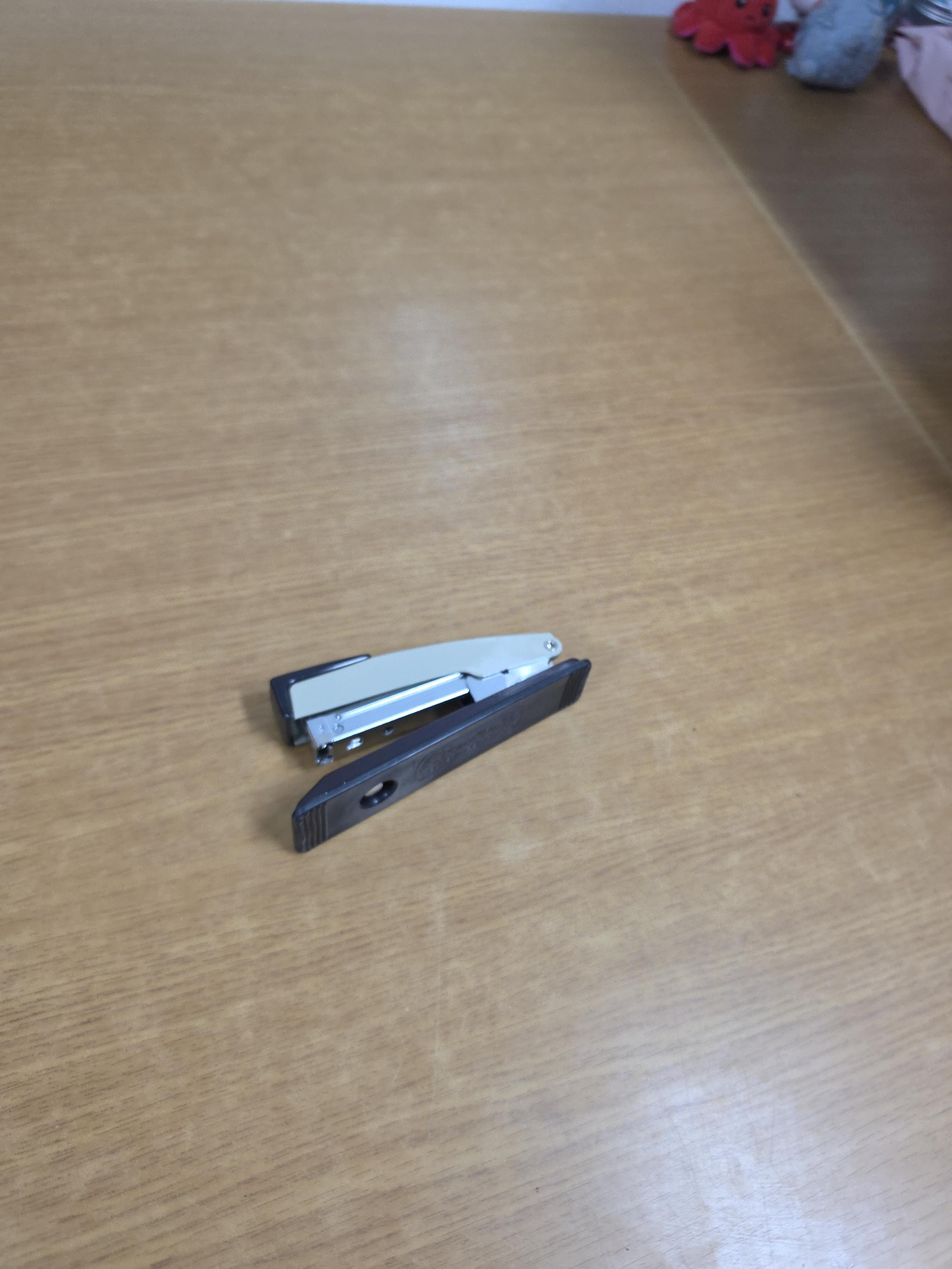stapler: (267, 631, 593, 855)
